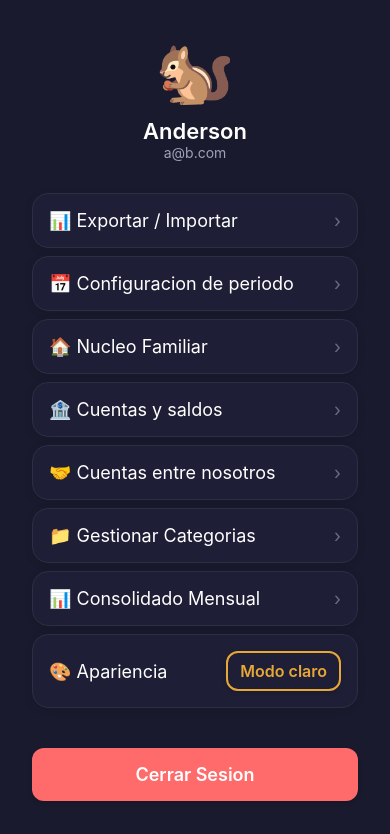
Test: SettingsScreen › toggles the theme
Click the button "Modo claro".
click(284, 671)  # box [226,651,341,691]
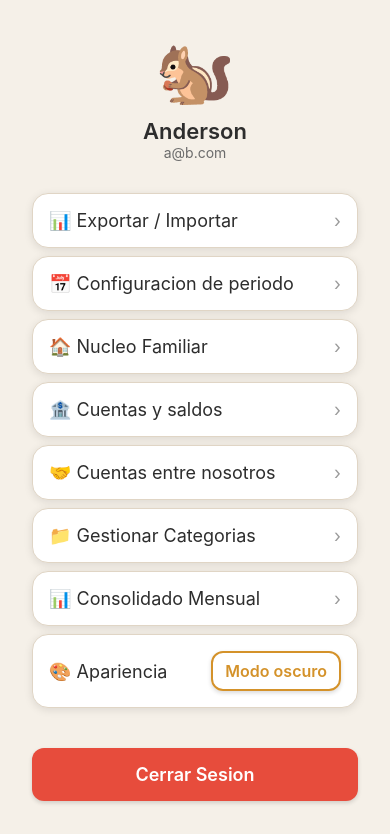
Now the text "Modo oscuro" is shown, box [225,661,327,681]
